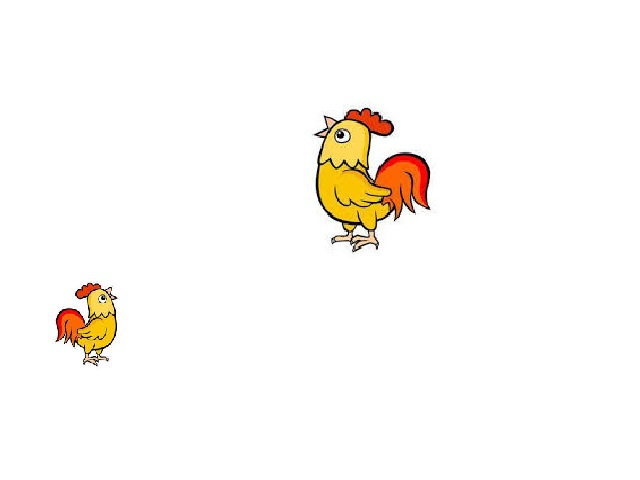crown: (340, 108, 399, 133), (77, 283, 101, 294)
eyes: (335, 129, 351, 143), (97, 294, 113, 302)
feet: (332, 224, 382, 251), (82, 354, 112, 372)
tail: (375, 151, 431, 217), (51, 308, 90, 346)
